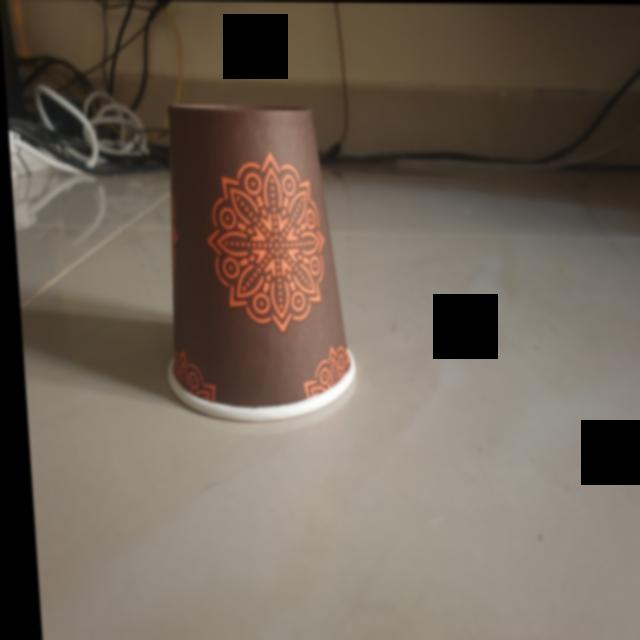cups: (144, 97, 355, 423)
